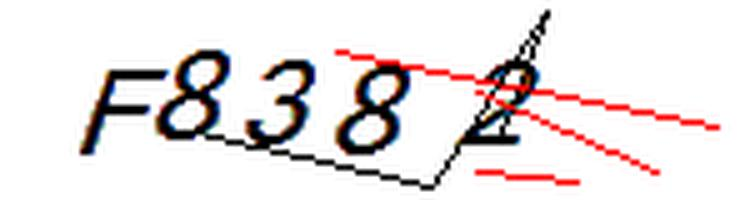2: (453, 54, 547, 152)
3: (236, 54, 327, 155)
8: (328, 61, 421, 159), (152, 45, 235, 146)
F: (73, 61, 171, 161)
